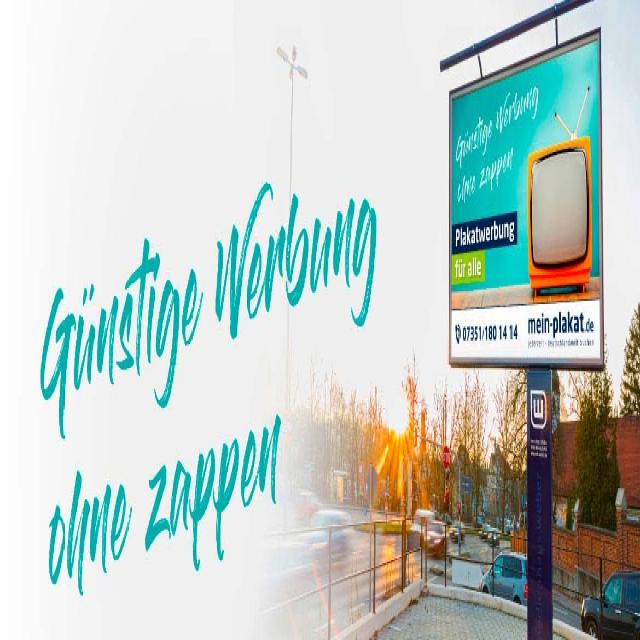Werbetafel frei: (447, 30, 608, 374)
